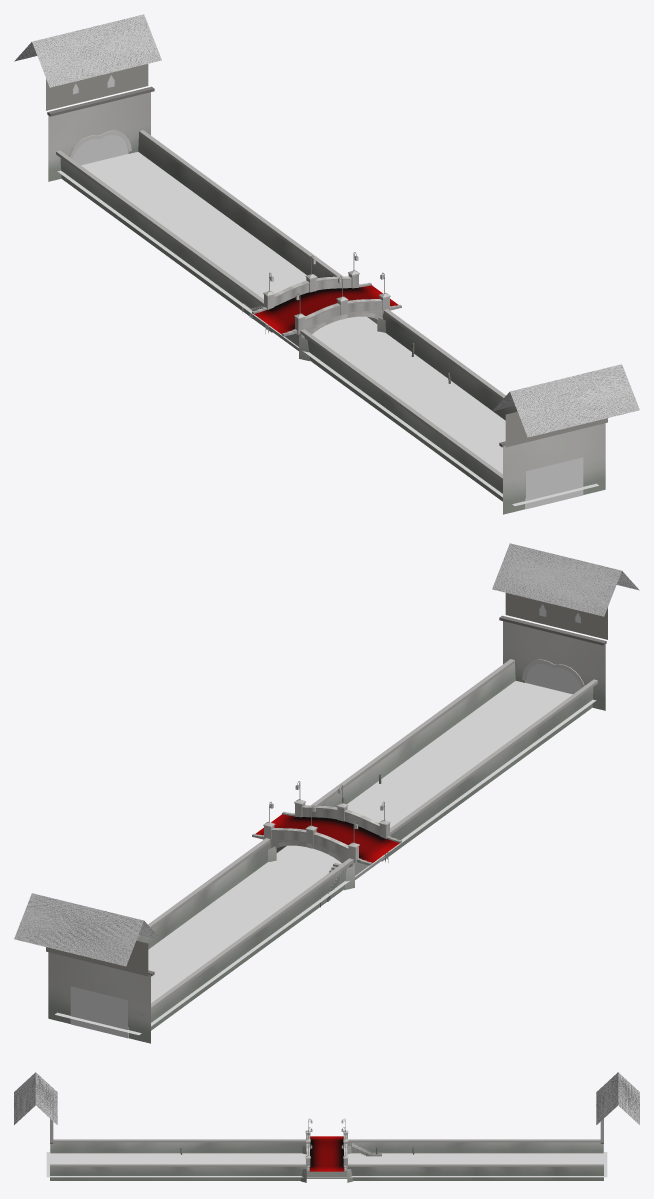
Rendered from env_city_brook.glb.
3 renders of one model, top to bottom at view 1: azimuth 30°, elevation 25°; view 2: azimuth 150°, elevation 25°; view 3: azimuth 270°, elevation 25°, orthographic. The views are drawn at different scales.
Visible parts, largest first — view 1: Banks, Water, Bridge; view 2: Banks, Water, Bridge; view 3: Banks, Water, Bridge.
Boxes of the visible parts, x1,y1,x2,y2 form: Banks: (14,14,639,514); Water: (57,151,598,506); Bridge: (252,270,401,361); Banks: (14,543,639,1043); Water: (55,680,596,1035); Bridge: (252,799,401,890); Banks: (14,1072,639,1180); Water: (46,1152,607,1177); Bridge: (300,1130,353,1182).
Size of what is drawn, in the model's own units: 12 by 12.91 by 90.4.
